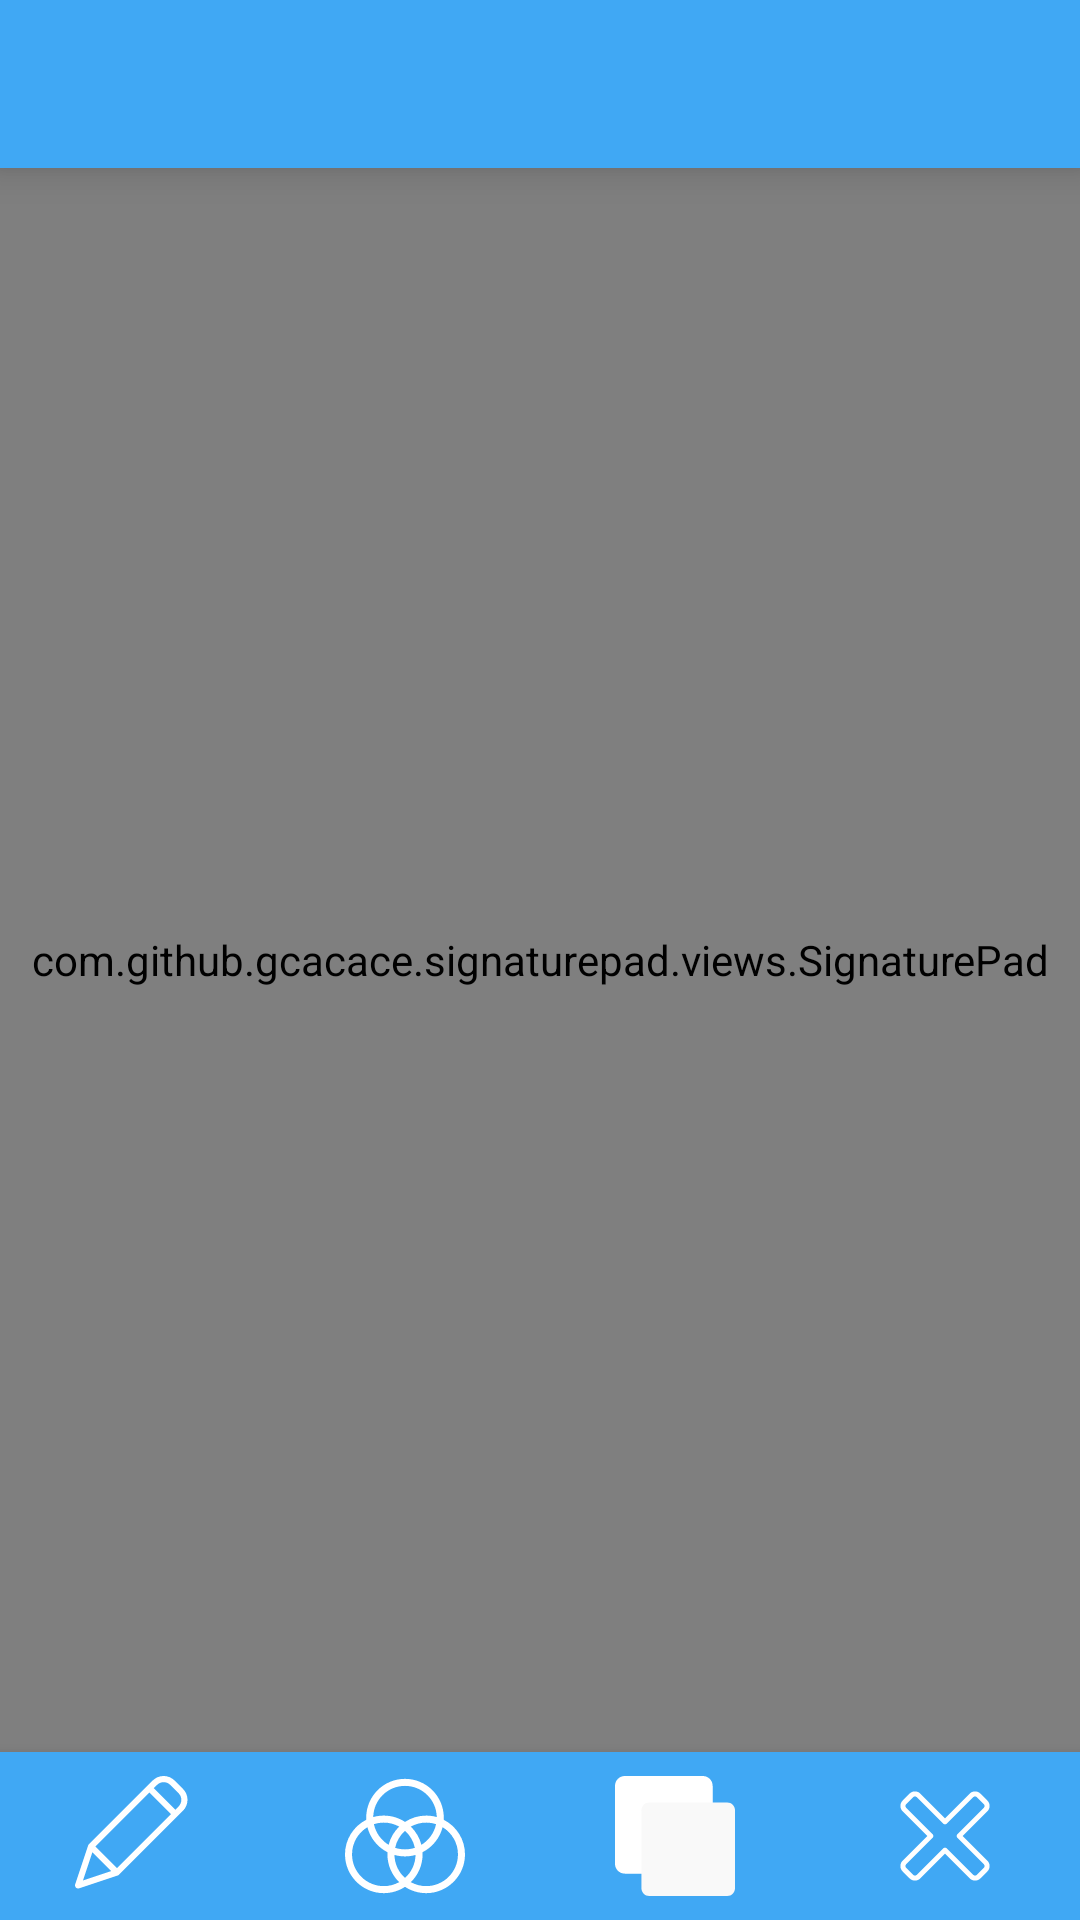

Screen size 1080 × 1920. Icon name, then its center in pixels as [x,y]:
crossed: [945,1836]
pen: [131,1832]
